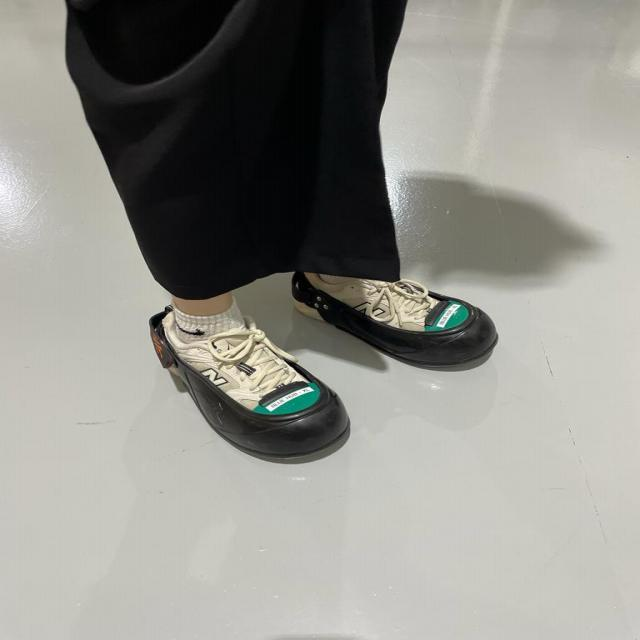shoes: (146, 300, 356, 475), (292, 263, 505, 382)
